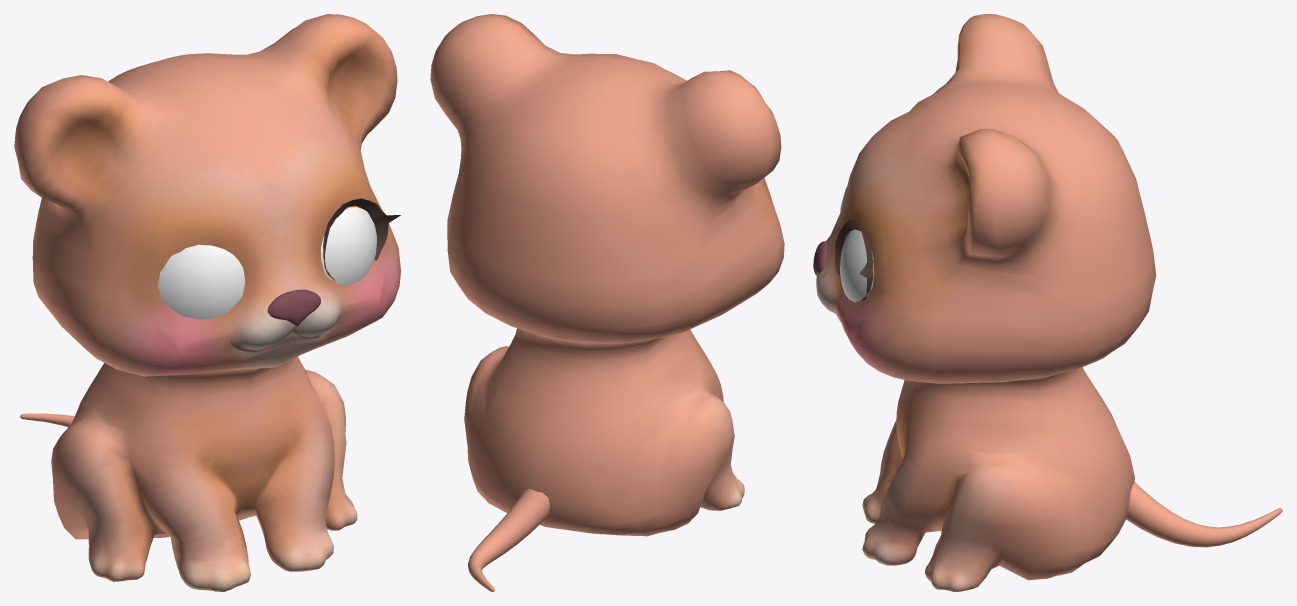
The picture shows the model from 3 angles, left to right: view 1: azimuth 30°, elevation 25°; view 2: azimuth 150°, elevation 25°; view 3: azimuth 270°, elevation 25°; orthographic projection. The views are drawn at different scales.
Visible parts, largest first — view 1: Body, Right Eye, Left Eye, Muzzle, Plane; view 2: Body, Tail; view 3: Body, Tail, Left Eye, Plane.
Part boxes in pixels (left/top/right/bottom): Body: left=14, top=14, right=400, bottom=591; Right Eye: left=157, top=244, right=245, bottom=319; Left Eye: left=320, top=207, right=376, bottom=285; Muzzle: left=267, top=289, right=320, bottom=326; Plane: left=323, top=198, right=400, bottom=280; Body: left=430, top=14, right=784, bottom=536; Tail: left=468, top=488, right=550, bottom=591; Body: left=816, top=14, right=1156, bottom=591; Tail: left=1126, top=482, right=1282, bottom=547; Left Eye: left=840, top=229, right=874, bottom=302; Plane: left=835, top=219, right=873, bottom=301.
Bounding box in the file's own units: 0.6004 × 0.7586 × 0.7002.
Materials: 5 (2 with a texture image).
